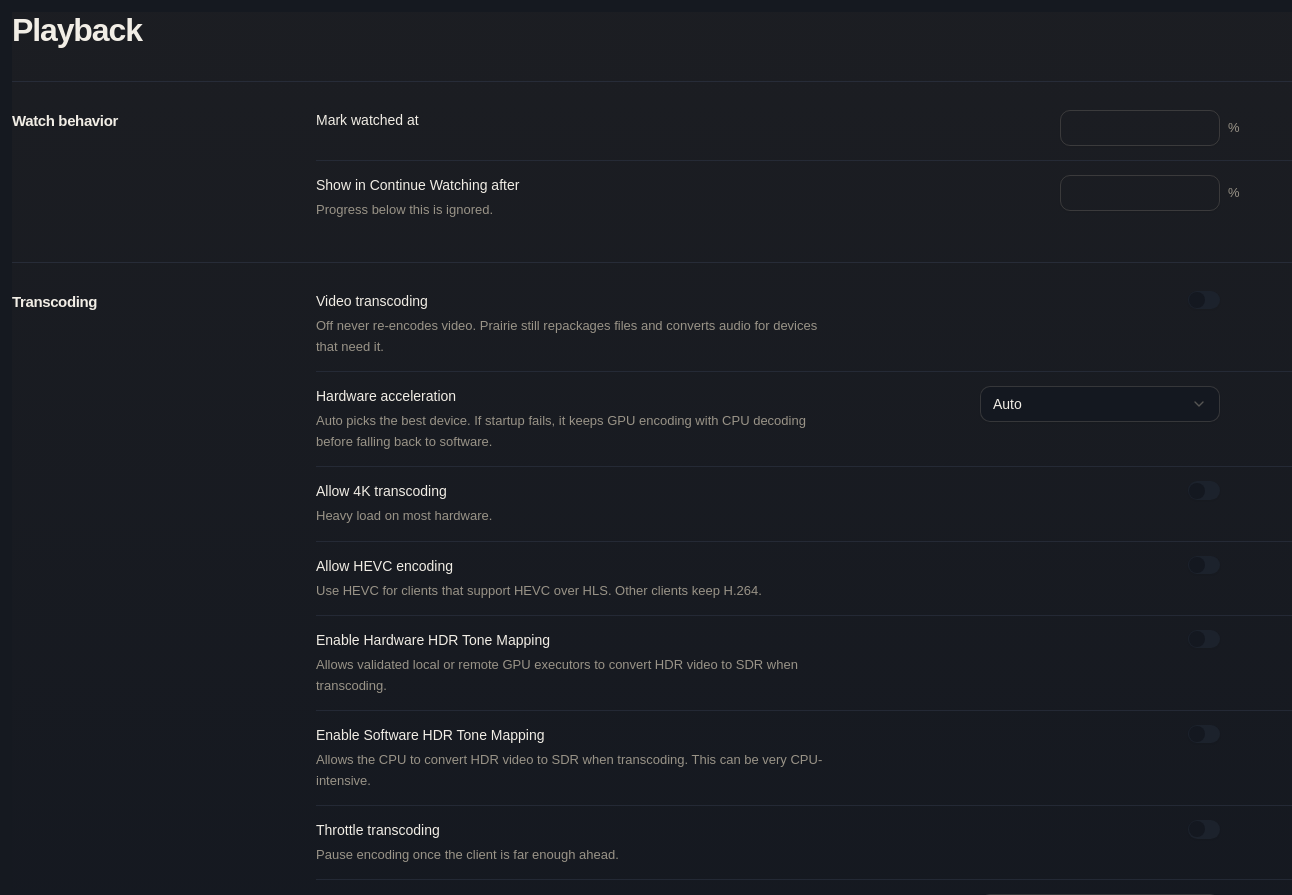
Test: PlaybackSettings CPU tone mapping › offers VideoToolbox hardware acceleration
What coordinates should you click on to do the following:
click the dropdown named "Hardware acceleration"
I would click on:
 (1100, 404)
Its box is [980,386,1220,422].
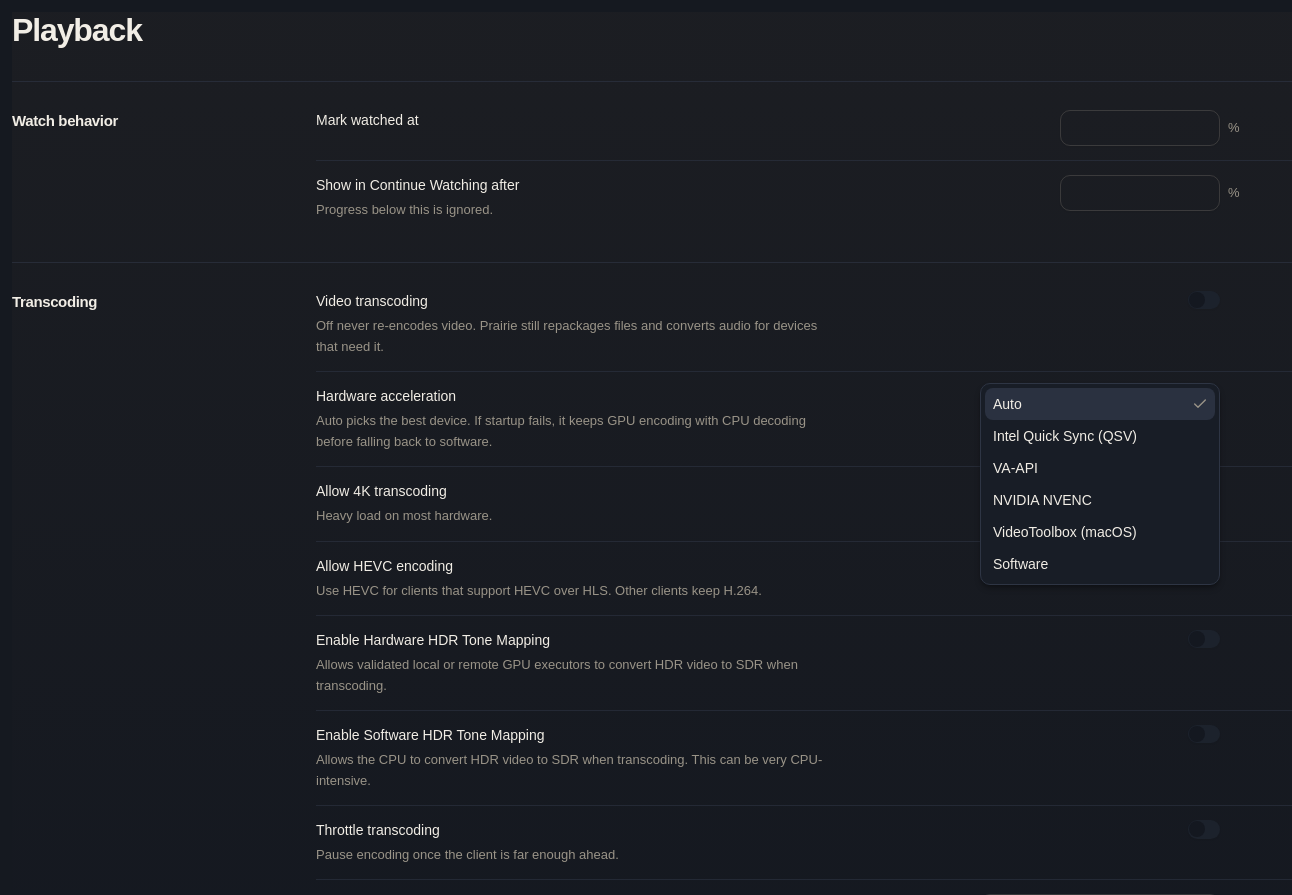
Expected: the option "VideoToolbox (macOS)" is shown, [993,524,1137,540]
